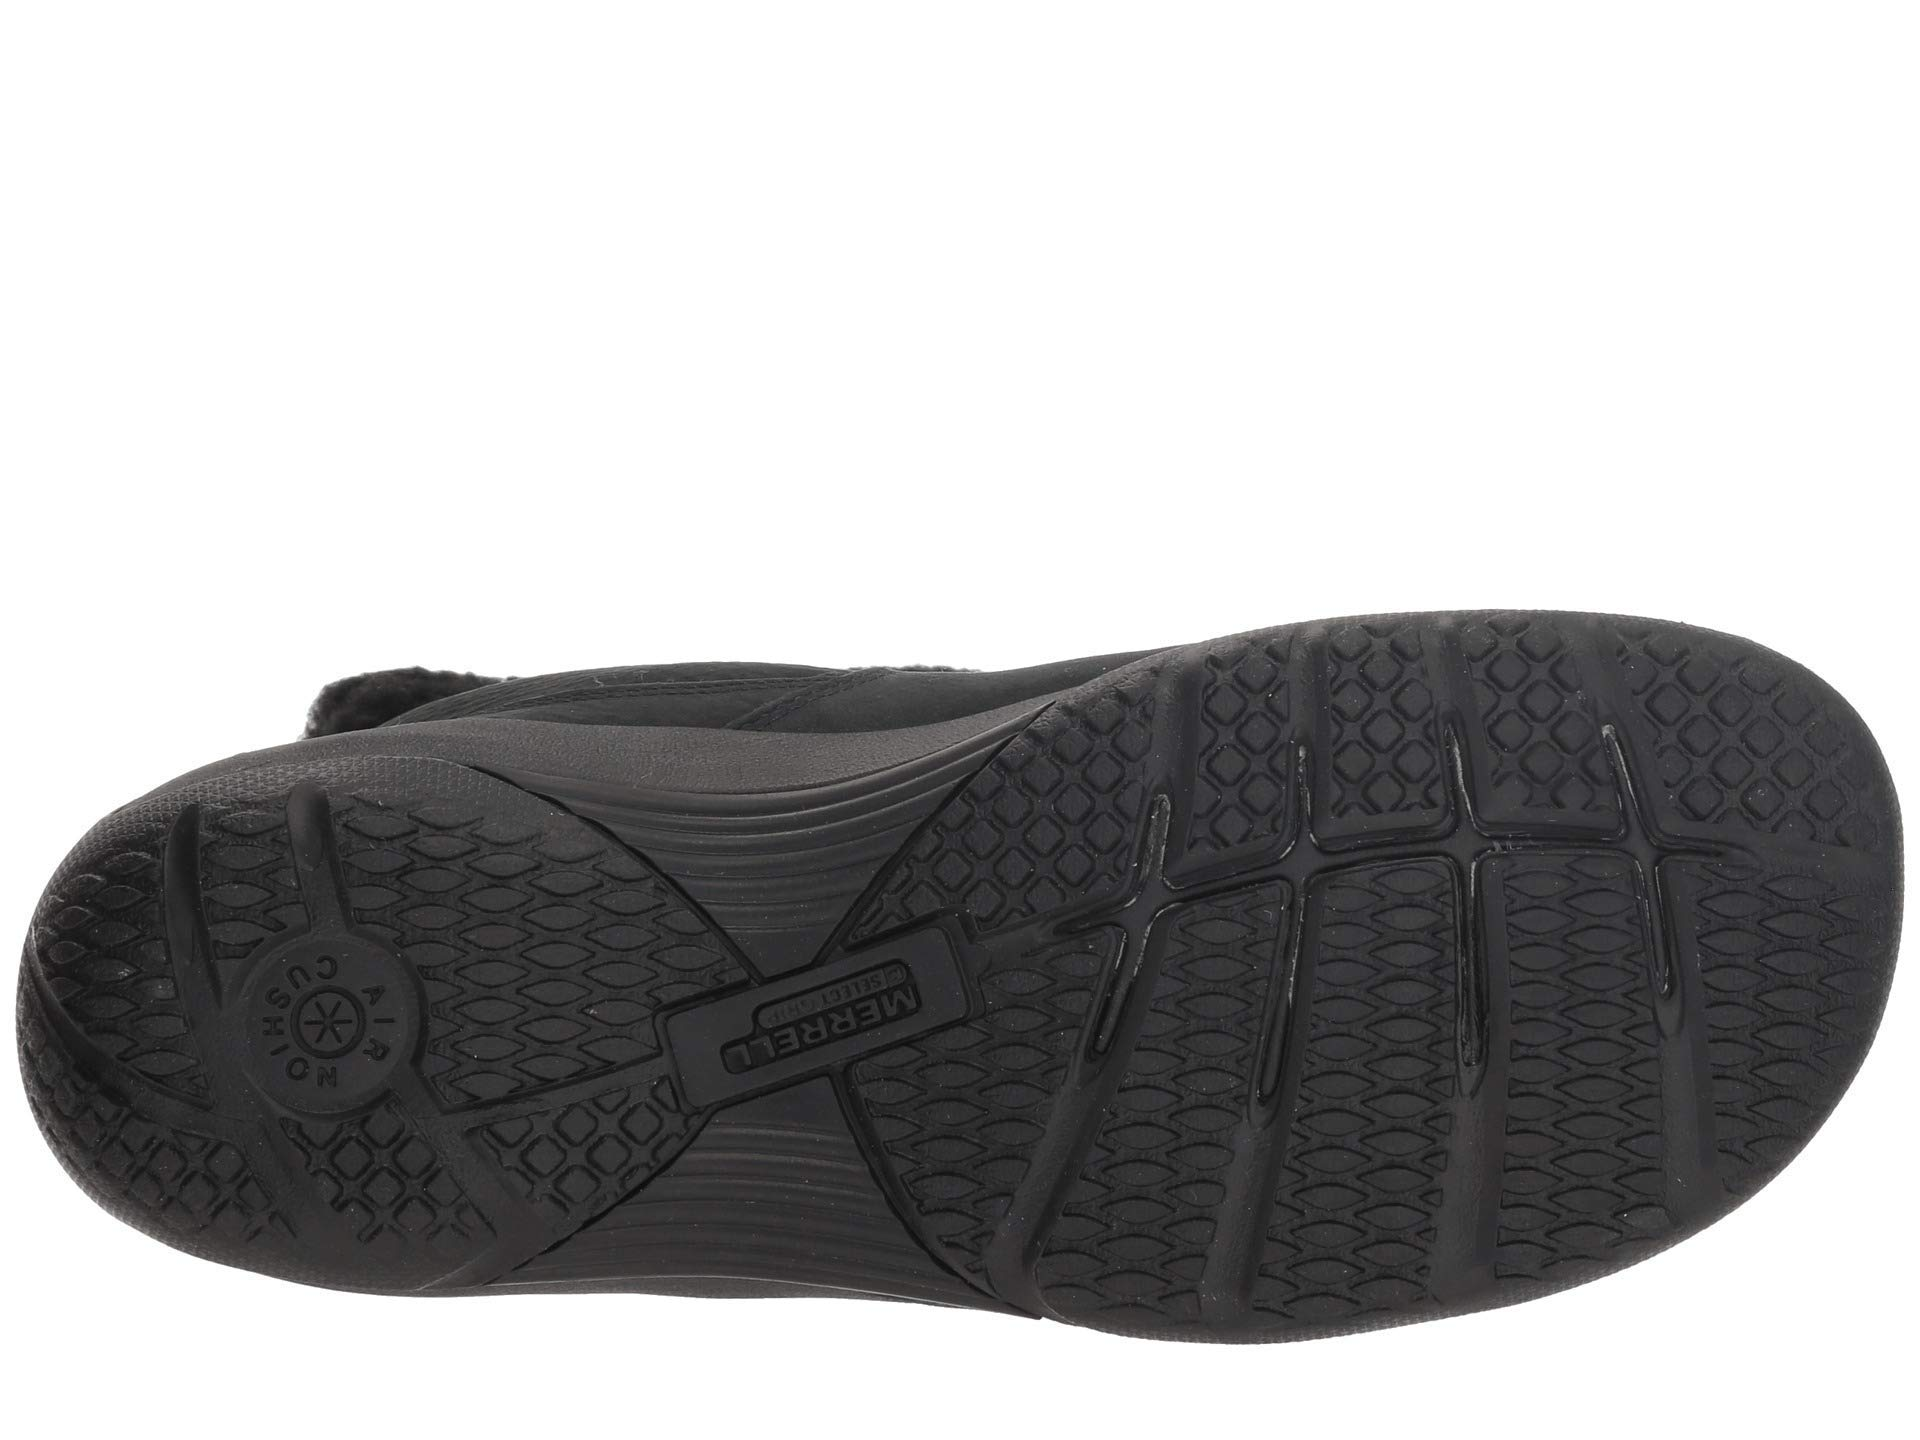circle: (163, 885, 429, 1165)
line: (635, 889, 1037, 1216)
quad: (635, 889, 1037, 1216), (163, 885, 429, 1165), (404, 811, 627, 1024), (1318, 628, 1451, 781)
star: (163, 885, 429, 1165)
text: (635, 889, 1037, 1216), (163, 885, 429, 1165)
